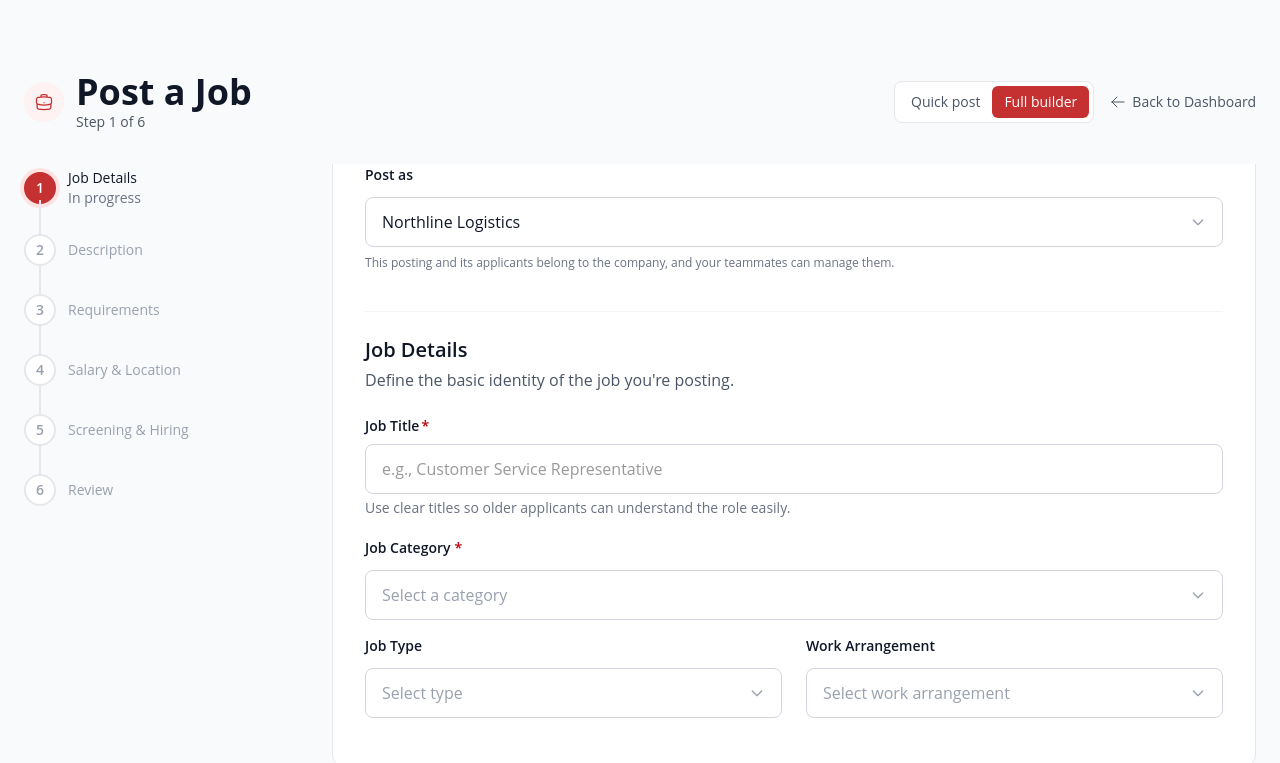
Test case: job builder company gate › hands the individual option back on the way to quick post
The width and height of the screenshot is (1280, 763).
Click the button "Quick post": (946, 102) [899,86,992,118]
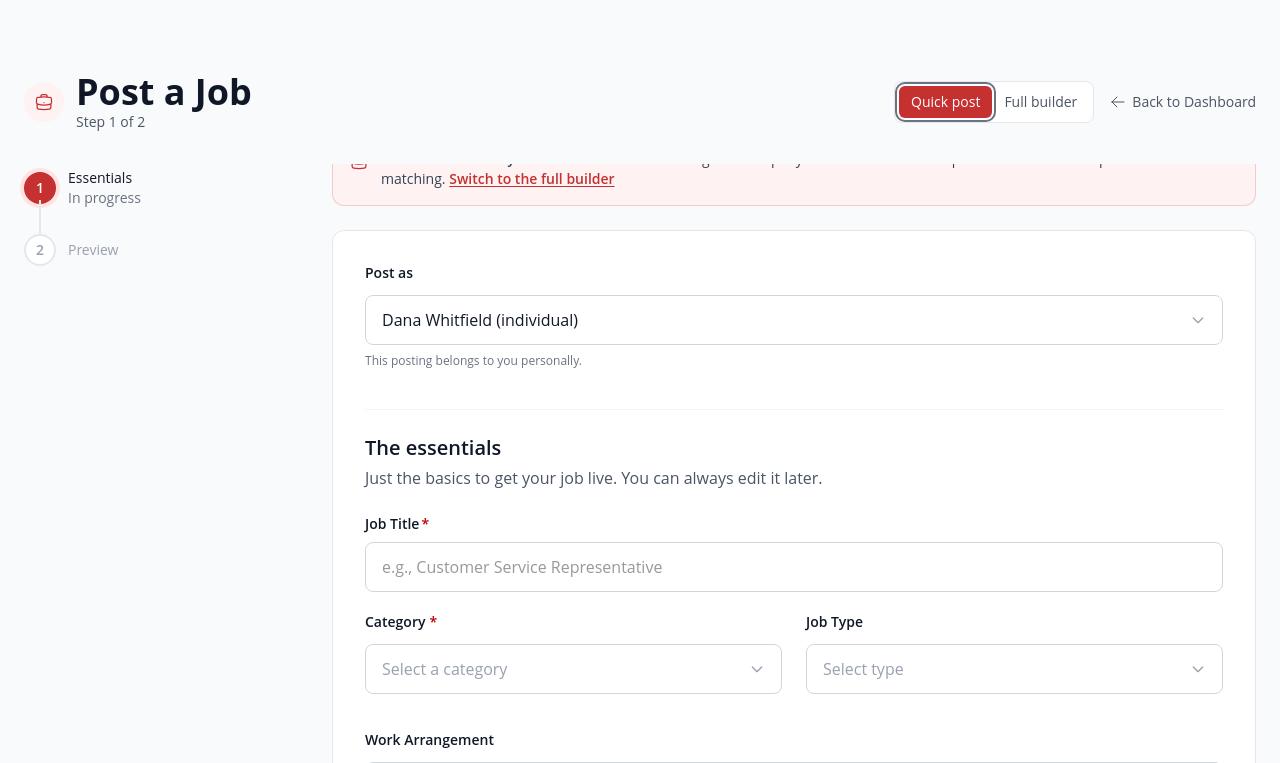
Check: the text "Essentials" is shown, box [68,168,141,188]
Check: the dropdown named "Post as" reads "Dana Whitfield (individual)"
Click the dropdown named "Post as": (480, 320) [365,295,1223,345]
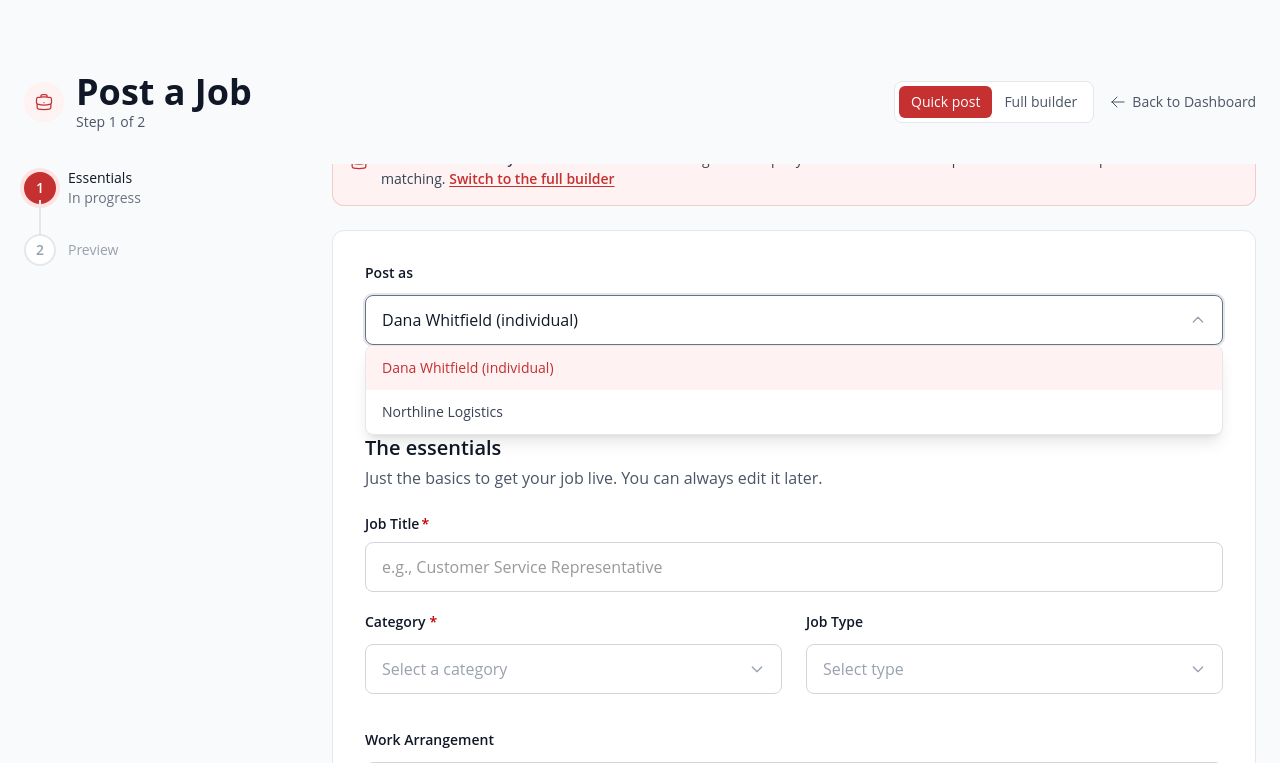
Check: the options read "Dana Whitfield (individual)", "Northline Logistics", in this order, box [366,346,1222,390]; [366,390,1222,434]
